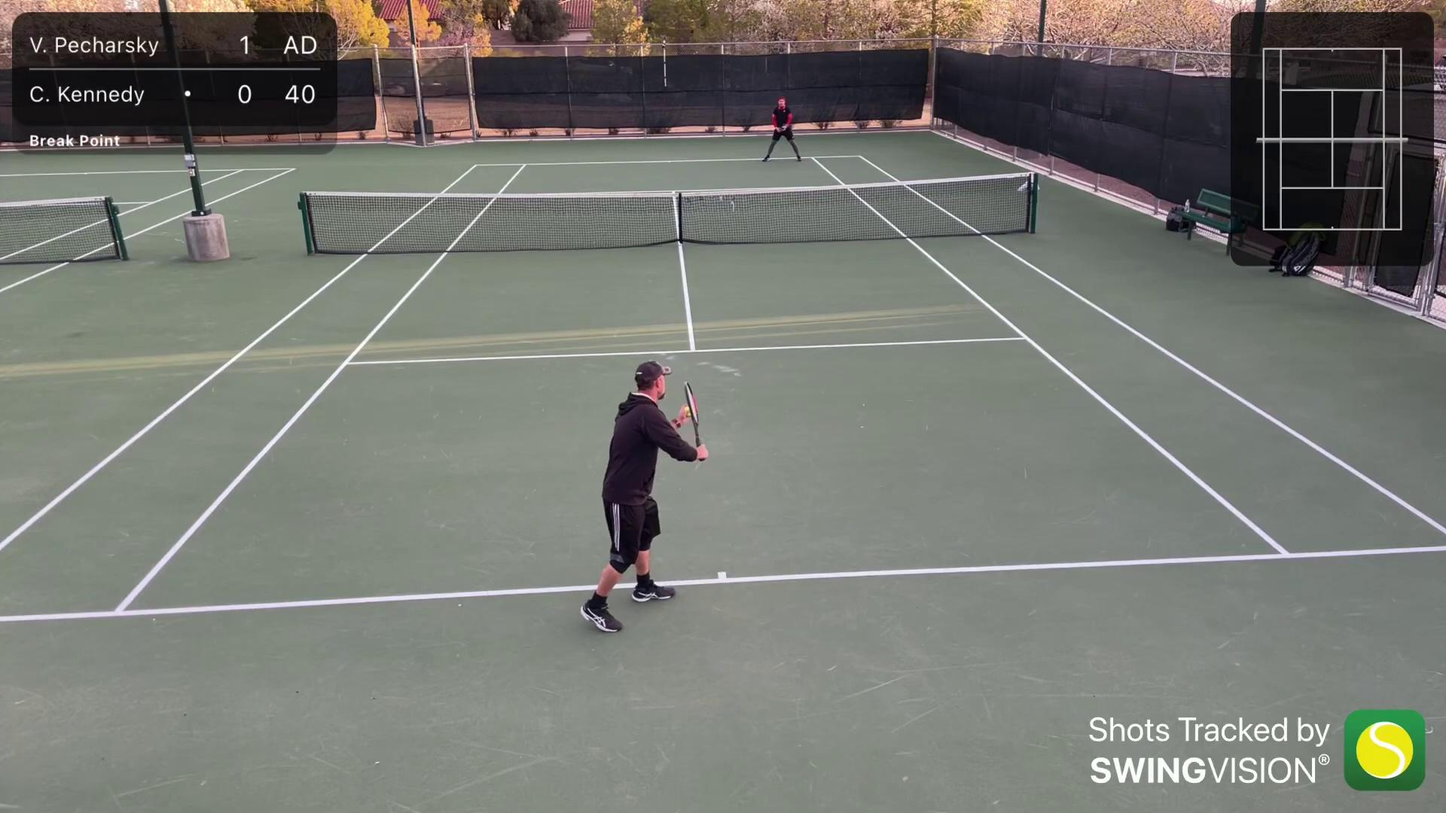ball: (682, 403, 695, 418)
